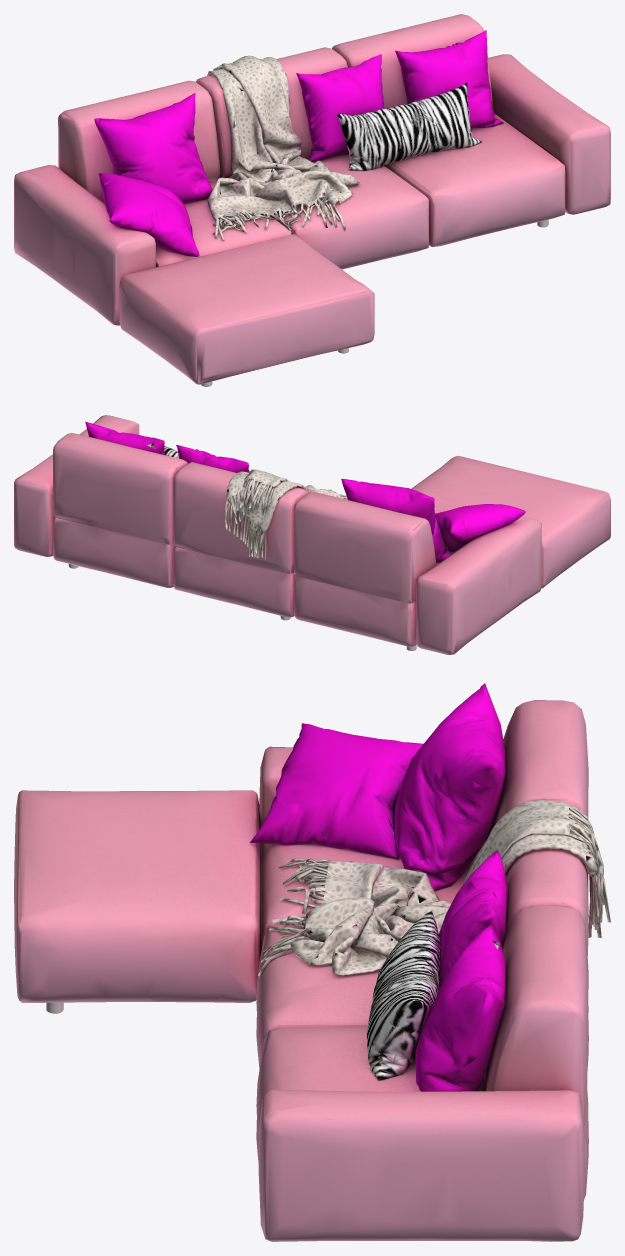
The model's file is pinksofa.gltf.
The picture shows the model from 3 angles, top to bottom: view 1: azimuth 30°, elevation 25°; view 2: azimuth 150°, elevation 25°; view 3: azimuth 270°, elevation 25°; orthographic projection. The views are drawn at different scales.
Visible parts, largest first — view 1: Sofa; view 2: Sofa; view 3: Sofa.
Part boxes in pixels (left/top/right/bottom): Sofa: left=14, top=14, right=610, bottom=386; Sofa: left=14, top=415, right=610, bottom=654; Sofa: left=14, top=683, right=610, bottom=1241.
Size of the model in its own units: 293 by 88.13 by 195.
1 material, 1 textured.
